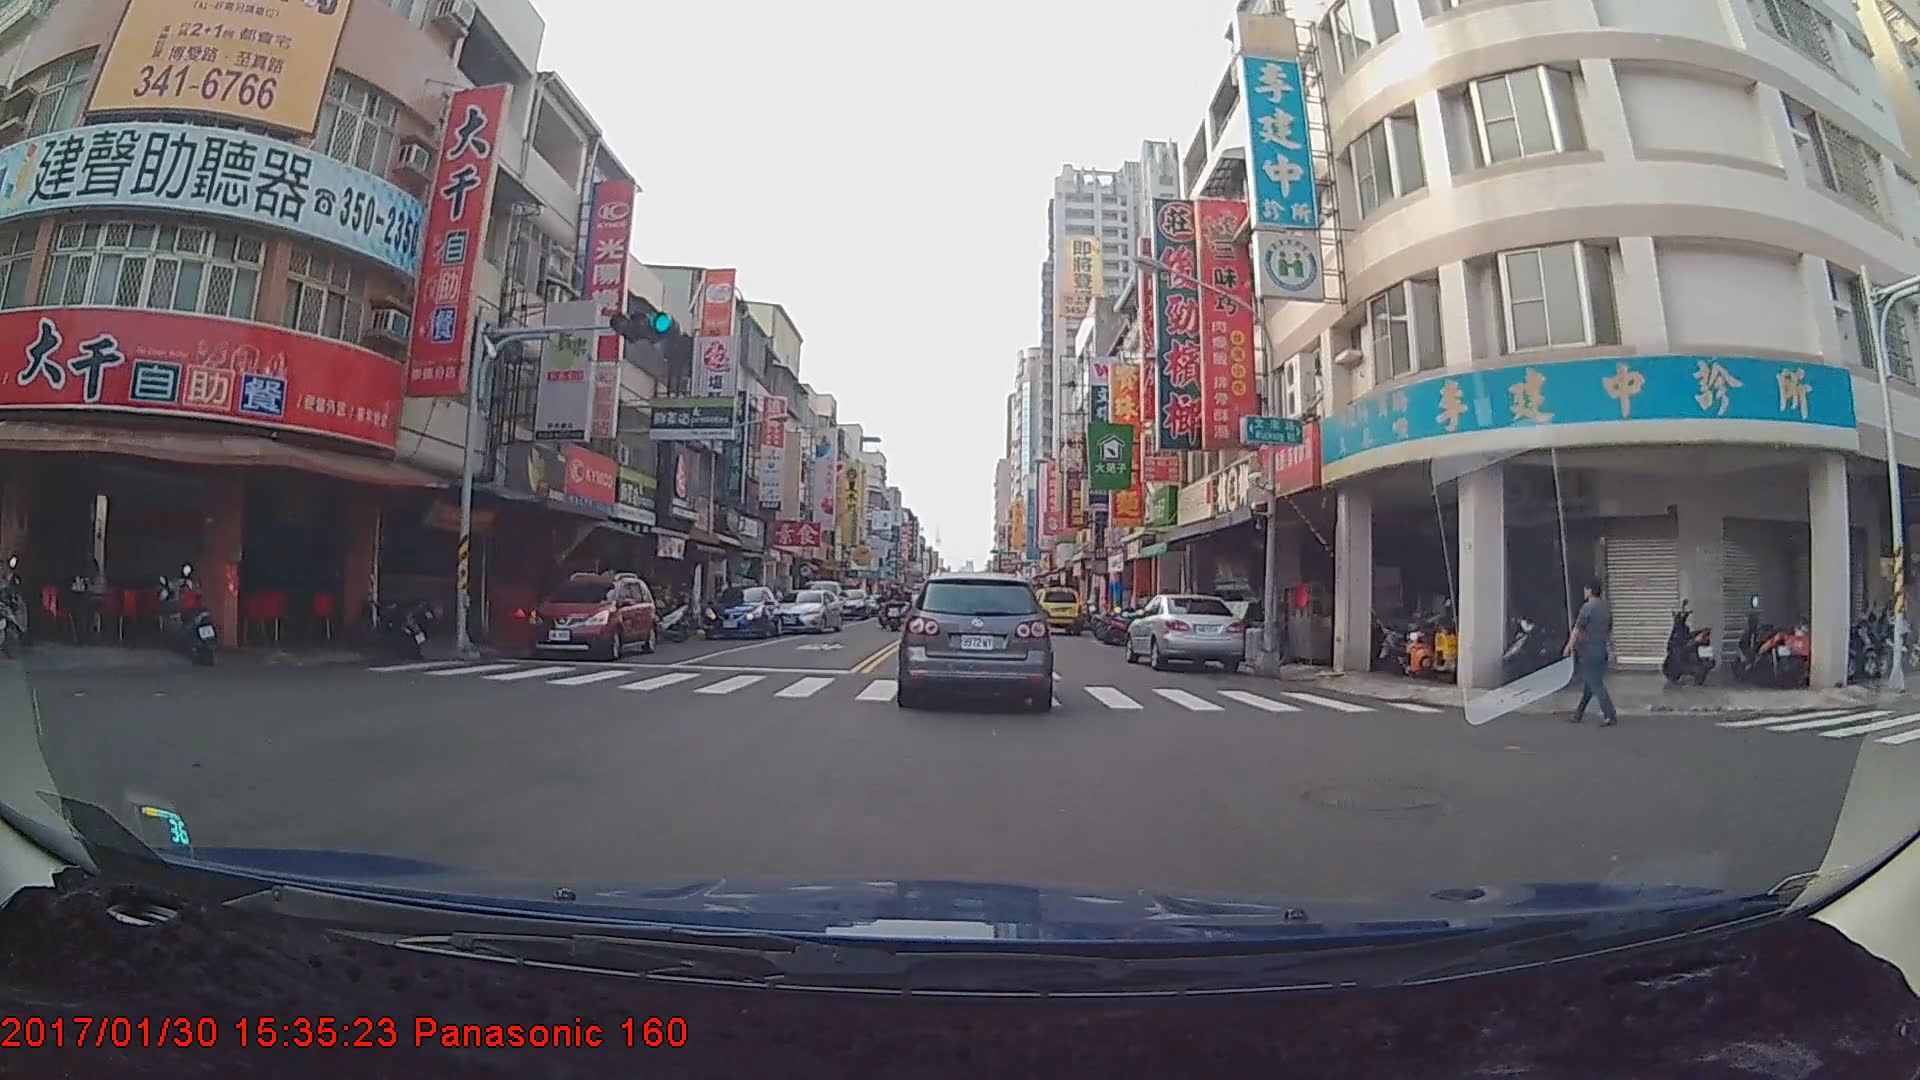pedestrian: (1574, 570, 1622, 729)
vehicle: (896, 572, 1051, 708), (526, 569, 657, 659), (1126, 588, 1249, 671), (702, 583, 782, 637), (776, 586, 842, 635), (1031, 584, 1083, 635)
